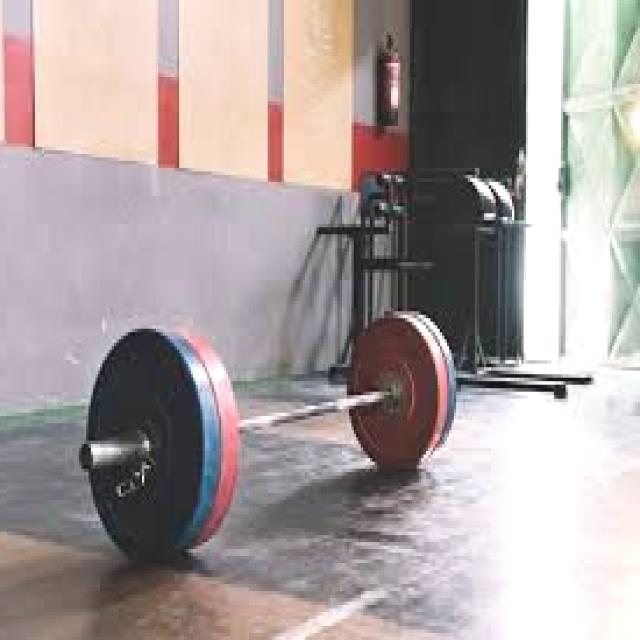barbell_plate_side: (79, 308, 174, 563), (364, 308, 459, 563)
